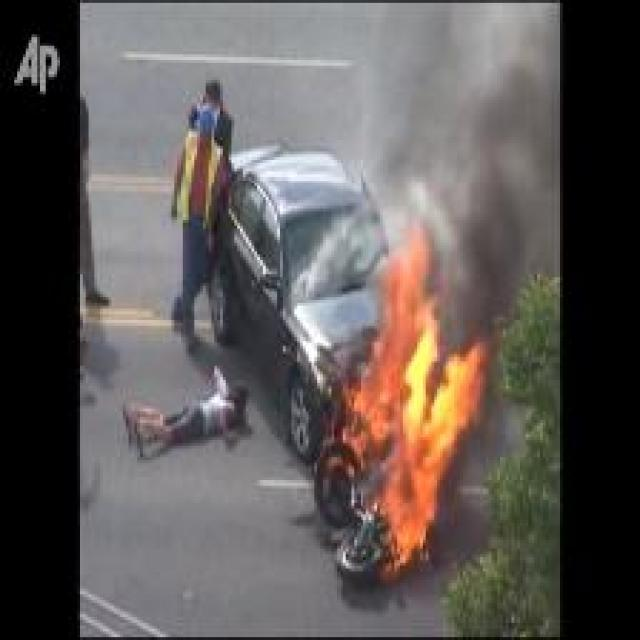Fire: (338, 236, 482, 570)
